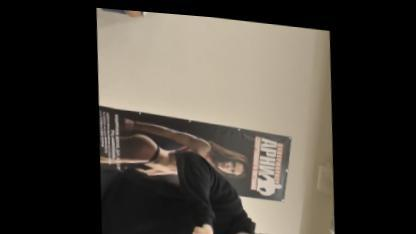knife: (184, 221, 214, 233)
